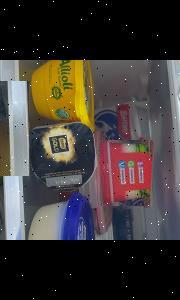Mantequilla: (100, 140, 152, 206)
Salchichas: (0, 81, 30, 176)
